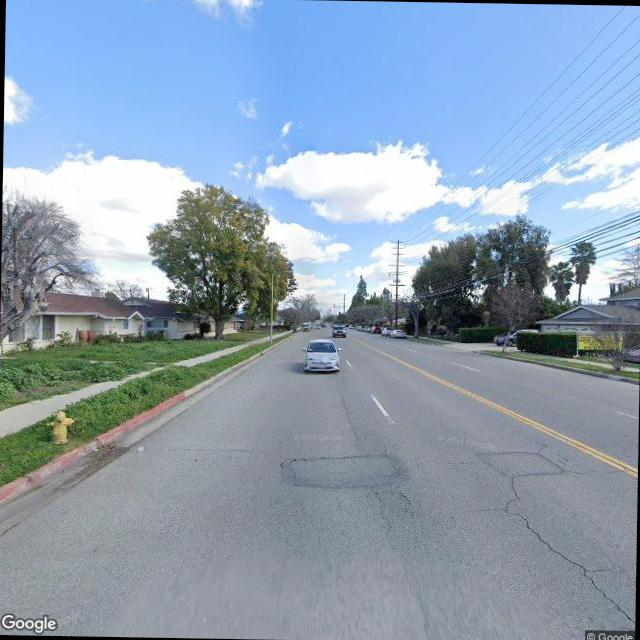crack: (494, 486, 636, 636), (120, 440, 296, 458), (556, 454, 636, 482)
